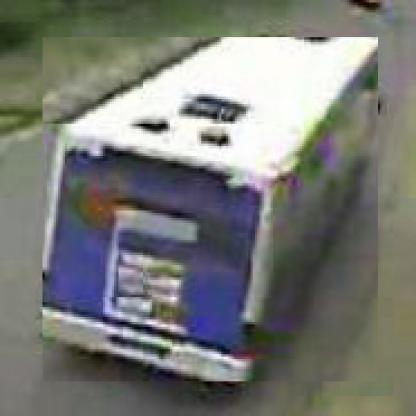bus: (44, 38, 381, 385)
